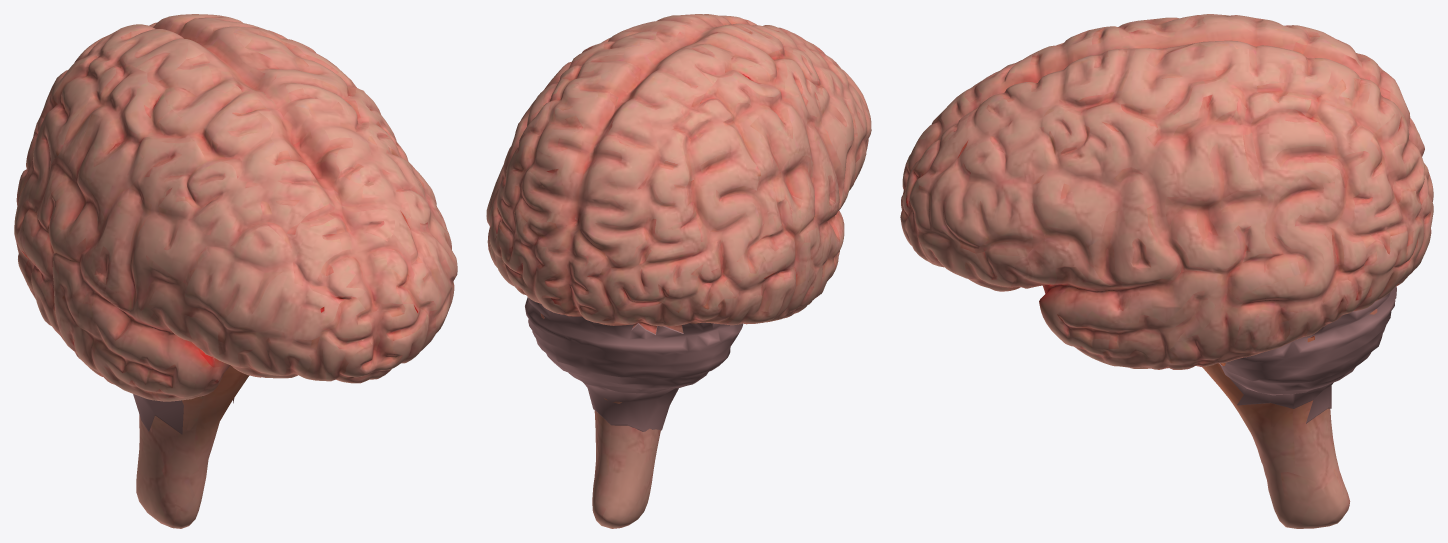
Rendered from brain parts.fbx.
3 views of the same model, side by side, from view 1: azimuth 30°, elevation 25°; view 2: azimuth 150°, elevation 25°; view 3: azimuth 270°, elevation 25° (orthographic). The views are drawn at different scales.
Visible parts, largest first — view 1: polySurface4, polySurface2; view 2: polySurface4, polySurface2; view 3: polySurface4, polySurface2.
Part boxes in pixels (x1,y1,x2,y2): polySurface4: (14,14,457,528); polySurface2: (133,394,234,434); polySurface4: (486,14,871,528); polySurface2: (525,297,762,431); polySurface4: (900,14,1433,528); polySurface2: (1219,286,1396,423).
Bounding box in the file's own units: 213 × 318 × 311.
